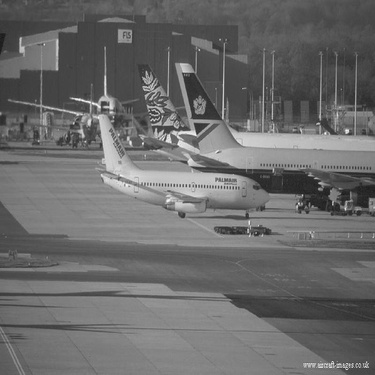airplane: (154, 54, 370, 217), (65, 92, 278, 246), (118, 47, 372, 165), (1, 23, 196, 143)
